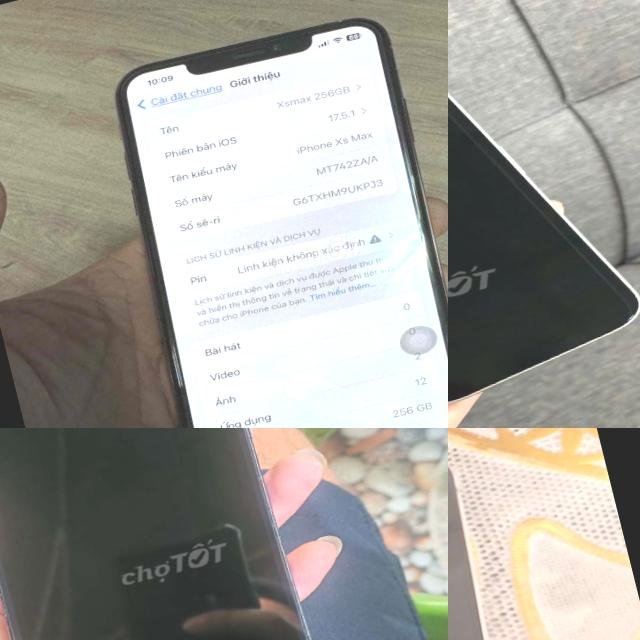scratch: (172, 428, 359, 640)
